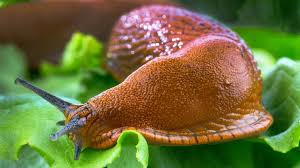slug: (24, 5, 272, 157)
